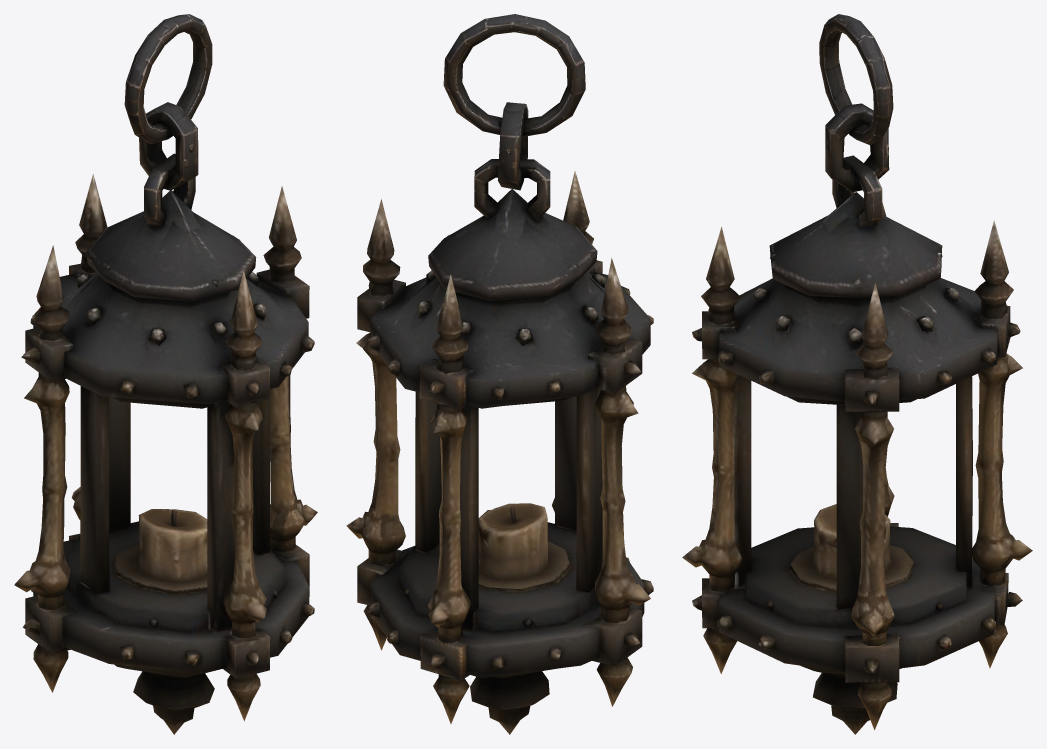
File: lantern.glb
The picture shows the model from 3 angles, left to right: view 1: azimuth 30°, elevation 25°; view 2: azimuth 150°, elevation 25°; view 3: azimuth 270°, elevation 25°; orthographic projection.
Visible parts, largest first — view 1: lantern; view 2: lantern; view 3: lantern.
Part boxes in pixels (<box>): lantern: <box>14,14,317,734</box>; lantern: <box>346,14,653,734</box>; lantern: <box>682,14,1032,734</box>.
Size of the model in its own units: 0.1161 by 0.2621 by 0.1169.
Materials: 1 (1 with a texture image).
